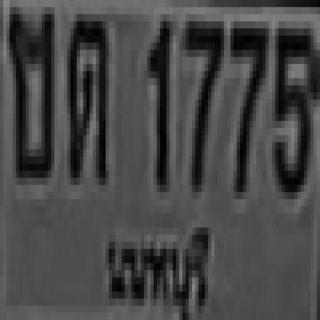A21: (64, 14, 106, 178)
N01: (146, 14, 168, 185)
N05: (272, 21, 314, 192)
N07: (182, 14, 221, 185), (230, 18, 266, 188)
P37: (100, 222, 210, 312)
